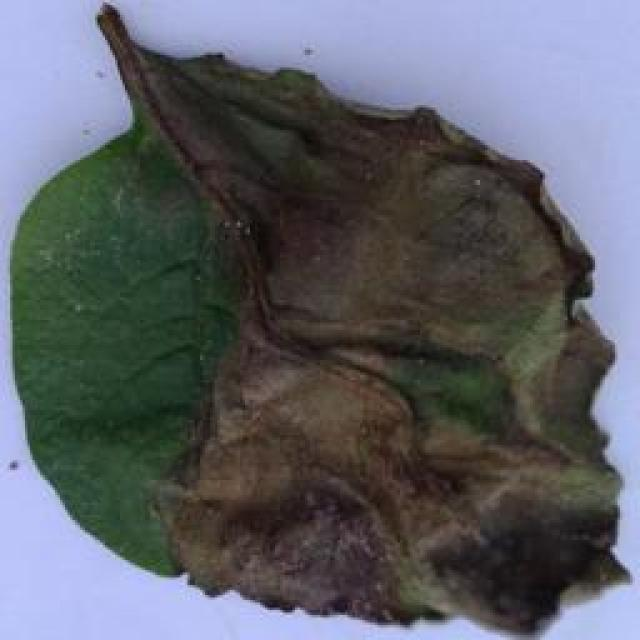Potato_Late_Blight: (17, 7, 617, 629)
